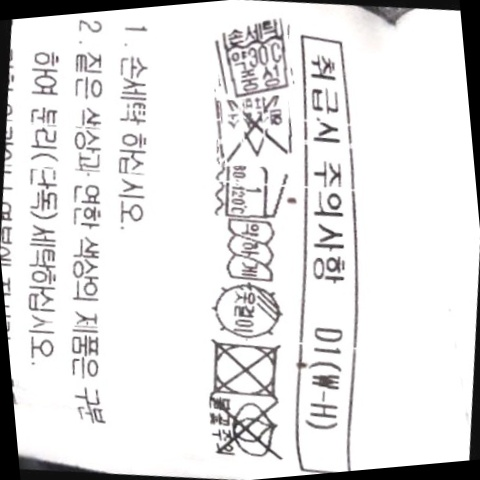DN_tumble_dry: (199, 333, 288, 404)
hand_wash: (213, 20, 297, 96)
iron_low: (216, 159, 288, 224)
line_dry_in_shade: (206, 279, 290, 342)
wring: (219, 216, 280, 287)
